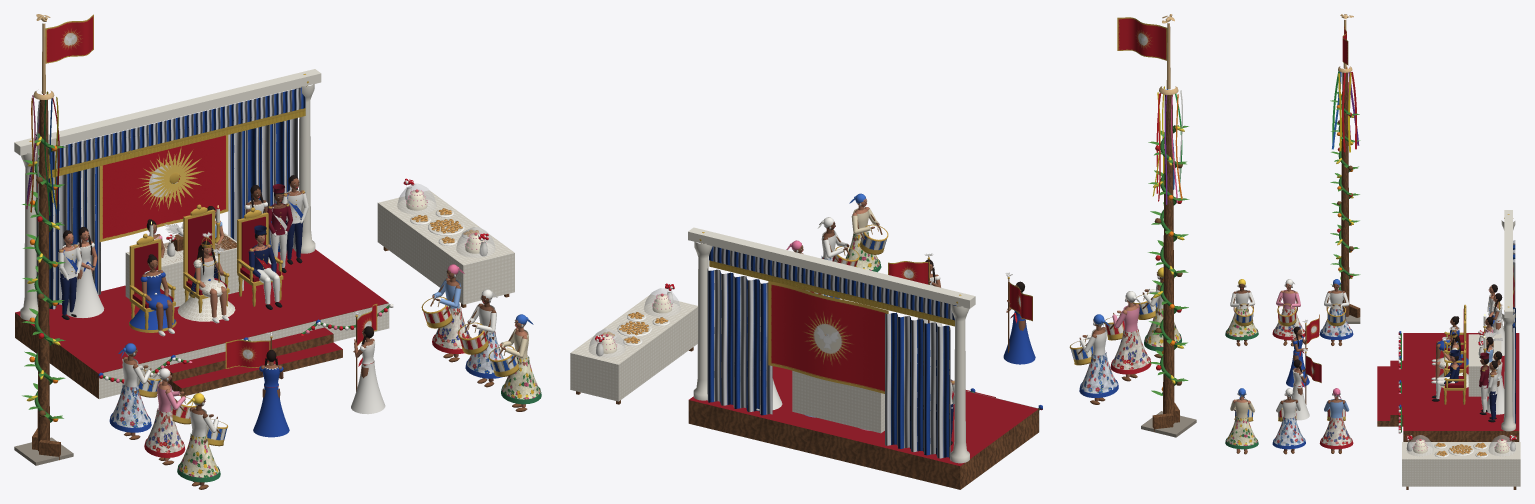
Rendered from divino.glb.
3 views of the same model, side by side, from view 1: azimuth 30°, elevation 25°; view 2: azimuth 150°, elevation 25°; view 3: azimuth 270°, elevation 25° (orthographic). The views are drawn at different scales.
Visible parts, largest first — view 1: Tribuna, Mastro_do_Divino, Mesa_de_doces, Bandeireira_1, Caixeira_3, Imperatriz, Caixeira_1, Caixeira_6, Caixeira_2, Caixeira_4, Caixeira_5, Bandeireira_2 (+6 smaller); view 2: Tribuna, Mastro_do_Divino, Mesa_de_doces, Caixeira_1, Caixeira_2, Bandeireira_1, Caixeira_6, Caixeira_3, Bandeireira_2, Caixeira_5; view 3: Tribuna, Mesa_de_doces, Mastro_do_Divino, Caixeira_3, Caixeira_1, Caixeira_6, Caixeira_4, Caixeira_5, Caixeira_2, Bandeireira_2, Bandeireira_1, Imperatriz (+6 smaller).
Boxes of the visible parts, left/top/right/bottom form: Tribuna: left=14, top=69, right=393, bottom=399; Mastro_do_Divino: left=14, top=14, right=93, bottom=465; Mesa_de_doces: left=377, top=178, right=514, bottom=307; Bandeireira_1: left=225, top=332, right=289, bottom=437; Caixeira_3: left=177, top=393, right=227, bottom=489; Imperatriz: left=177, top=232, right=235, bottom=323; Caixeira_1: left=109, top=343, right=160, bottom=439; Caixeira_6: left=488, top=314, right=541, bottom=411; Caixeira_2: left=144, top=368, right=196, bottom=465; Caixeira_4: left=421, top=264, right=471, bottom=362; Caixeira_5: left=458, top=289, right=503, bottom=387; Bandeireira_2: left=351, top=304, right=385, bottom=414; Tribuna: left=688, top=227, right=1042, bottom=489; Mastro_do_Divino: left=1117, top=14, right=1196, bottom=437; Mesa_de_doces: left=570, top=283, right=697, bottom=404; Caixeira_1: left=1069, top=314, right=1118, bottom=404; Caixeira_2: left=1104, top=291, right=1151, bottom=381; Bandeireira_1: left=1003, top=272, right=1035, bottom=364; Caixeira_6: left=845, top=193, right=888, bottom=272; Caixeira_3: left=1133, top=267, right=1181, bottom=358; Bandeireira_2: left=888, top=253, right=942, bottom=326; Caixeira_5: left=817, top=217, right=859, bottom=298; Tribuna: left=1377, top=210, right=1519, bottom=441; Mesa_de_doces: left=1402, top=435, right=1520, bottom=489; Mastro_do_Divino: left=1330, top=14, right=1360, bottom=323; Caixeira_3: left=1225, top=279, right=1258, bottom=346; Caixeira_1: left=1319, top=279, right=1353, bottom=345; Caixeira_6: left=1225, top=388, right=1258, bottom=454; Caixeira_4: left=1319, top=388, right=1353, bottom=453; Caixeira_5: left=1272, top=388, right=1305, bottom=454; Caixeira_2: left=1272, top=279, right=1305, bottom=346; Bandeireira_2: left=1291, top=348, right=1321, bottom=420; Bandeireira_1: left=1286, top=314, right=1319, bottom=387; Imperatriz: left=1431, top=327, right=1468, bottom=387.
Bounding box in the file's own units: 1 × 0.7873 × 0.694.
80 materials, 13 textured.
